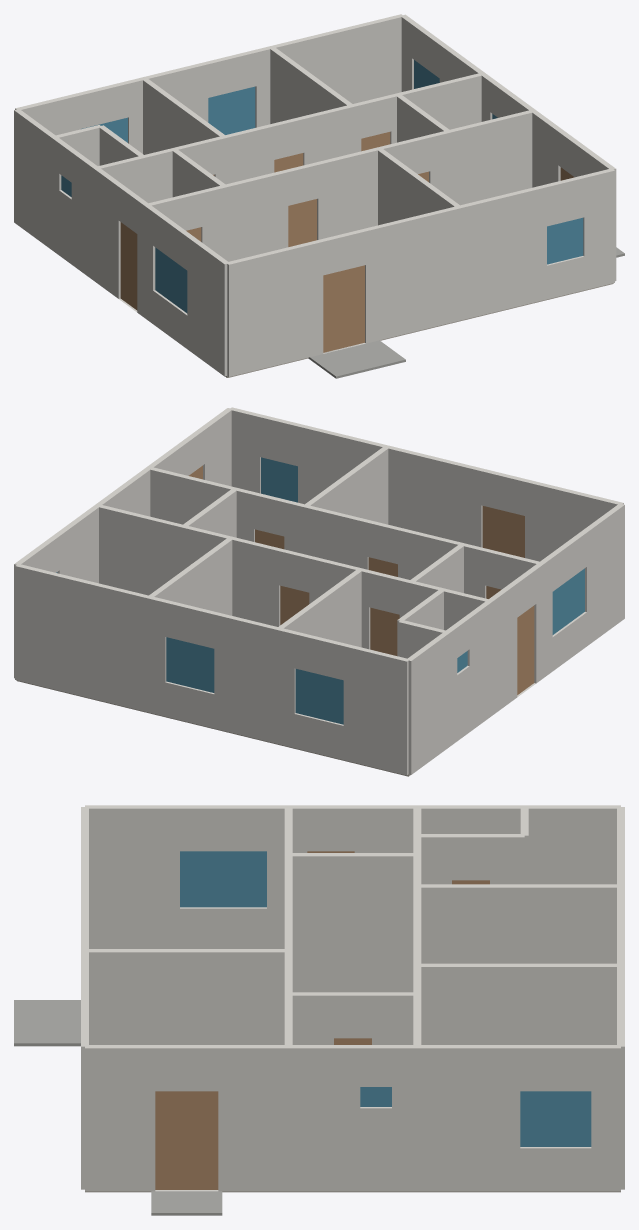
File: 3BHK_01_generated.fbx
3 renders of one model, top to bottom at view 1: azimuth 30°, elevation 25°; view 2: azimuth 150°, elevation 25°; view 3: azimuth 270°, elevation 25°, orthographic. The views are drawn at different scales.
Visible parts, largest first — view 1: DX_WALL_W001, DX_WALL_W003, DX_WALL_W008, DX_WALL_W002, DX_WALL_W029, DX_WALL_W011, DX_WALL_W019, DX_WALL_W028, DX_WALL_W015, DX_WALL_W007, DX_WALL_W027, DX_WALL_W026 (+24 smaller); view 2: DX_WALL_W029, DX_WALL_W001, DX_WALL_W027, DX_WALL_W028, DX_WALL_W002, DX_WALL_W003, DX_WALL_W008, DX_WALL_W019, DX_WALL_W023, DX_WALL_W015, DX_WALL_W026, DX_WALL_W007 (+26 smaller); view 3: DX_WALL_W024, DX_WALL_W005, DX_WALL_W002, DX_WALL_W004, DX_WALL_W013, DX_WALL_W009, DX_WALL_W022, DX_WALL_W020, DX_WALL_W026, DX_SOCKET_DOOR_D_BAL_02_W005, DX_WALL_W012, DX_WALL_W007 (+15 smaller).
Boxes of the visible parts, bbox=[...] form: DX_WALL_W001: bbox=[226, 206, 460, 376]; DX_WALL_W003: bbox=[458, 168, 614, 320]; DX_WALL_W008: bbox=[223, 147, 379, 261]; DX_WALL_W002: bbox=[144, 204, 229, 376]; DX_WALL_W029: bbox=[270, 14, 402, 103]; DX_WALL_W011: bbox=[447, 110, 532, 205]; DX_WALL_W019: bbox=[224, 105, 353, 184]; DX_WALL_W028: bbox=[143, 46, 271, 127]; DX_WALL_W015: bbox=[52, 137, 97, 280]; DX_WALL_W007: bbox=[94, 168, 147, 317]; DX_WALL_W027: bbox=[15, 77, 144, 153]; DX_WALL_W026: bbox=[14, 109, 56, 249]; DX_WALL_W029: bbox=[15, 563, 149, 712]; DX_WALL_W001: bbox=[386, 445, 623, 561]; DX_WALL_W027: bbox=[277, 628, 408, 775]; DX_WALL_W028: bbox=[148, 597, 278, 743]; DX_WALL_W002: bbox=[538, 503, 624, 677]; DX_WALL_W003: bbox=[230, 407, 388, 504]; DX_WALL_W008: bbox=[304, 505, 463, 579]; DX_WALL_W019: bbox=[230, 537, 361, 626]; DX_WALL_W023: bbox=[99, 504, 184, 595]; DX_WALL_W015: bbox=[446, 601, 492, 746]; DX_WALL_W026: bbox=[406, 632, 449, 774]; DX_WALL_W007: bbox=[487, 563, 543, 714]; DX_WALL_W024: bbox=[417, 1045, 620, 1191]; DX_WALL_W005: bbox=[85, 1045, 288, 1191]; DX_WALL_W002: bbox=[85, 805, 288, 948]; DX_WALL_W004: bbox=[89, 949, 288, 1044]; DX_WALL_W013: bbox=[288, 1045, 417, 1191]; DX_WALL_W009: bbox=[289, 853, 417, 992]; DX_WALL_W022: bbox=[417, 963, 620, 1044]; DX_WALL_W020: bbox=[418, 884, 620, 963]; DX_WALL_W026: bbox=[524, 805, 620, 884]; DX_SOCKET_DOOR_D_BAL_02_W005: bbox=[155, 1091, 218, 1189]; DX_WALL_W012: bbox=[289, 992, 417, 1044]; DX_WALL_W007: bbox=[288, 805, 417, 852].
Bounding box in the file's own units: 1212 × 311 × 1181.
